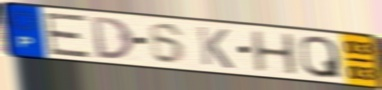6: (146, 22, 189, 65)
D: (89, 15, 138, 61)
E: (42, 12, 93, 60)
H: (249, 30, 301, 77)
K: (194, 24, 236, 71)
Q: (298, 34, 344, 80)
